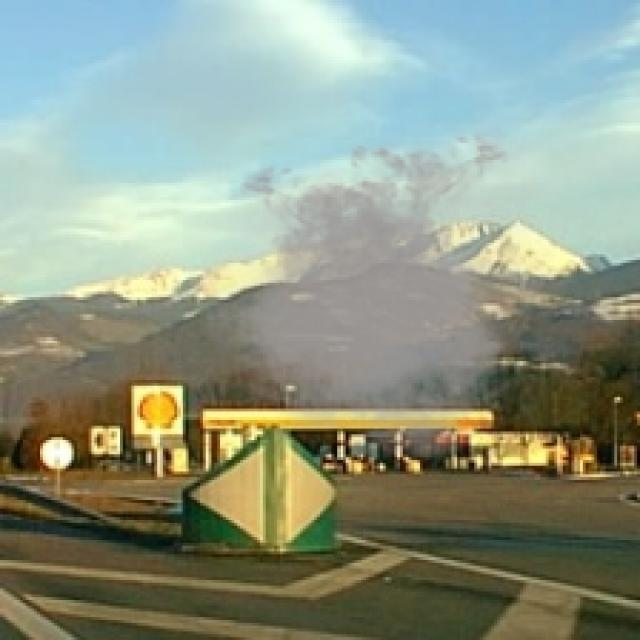Smoke: (183, 123, 566, 466)
